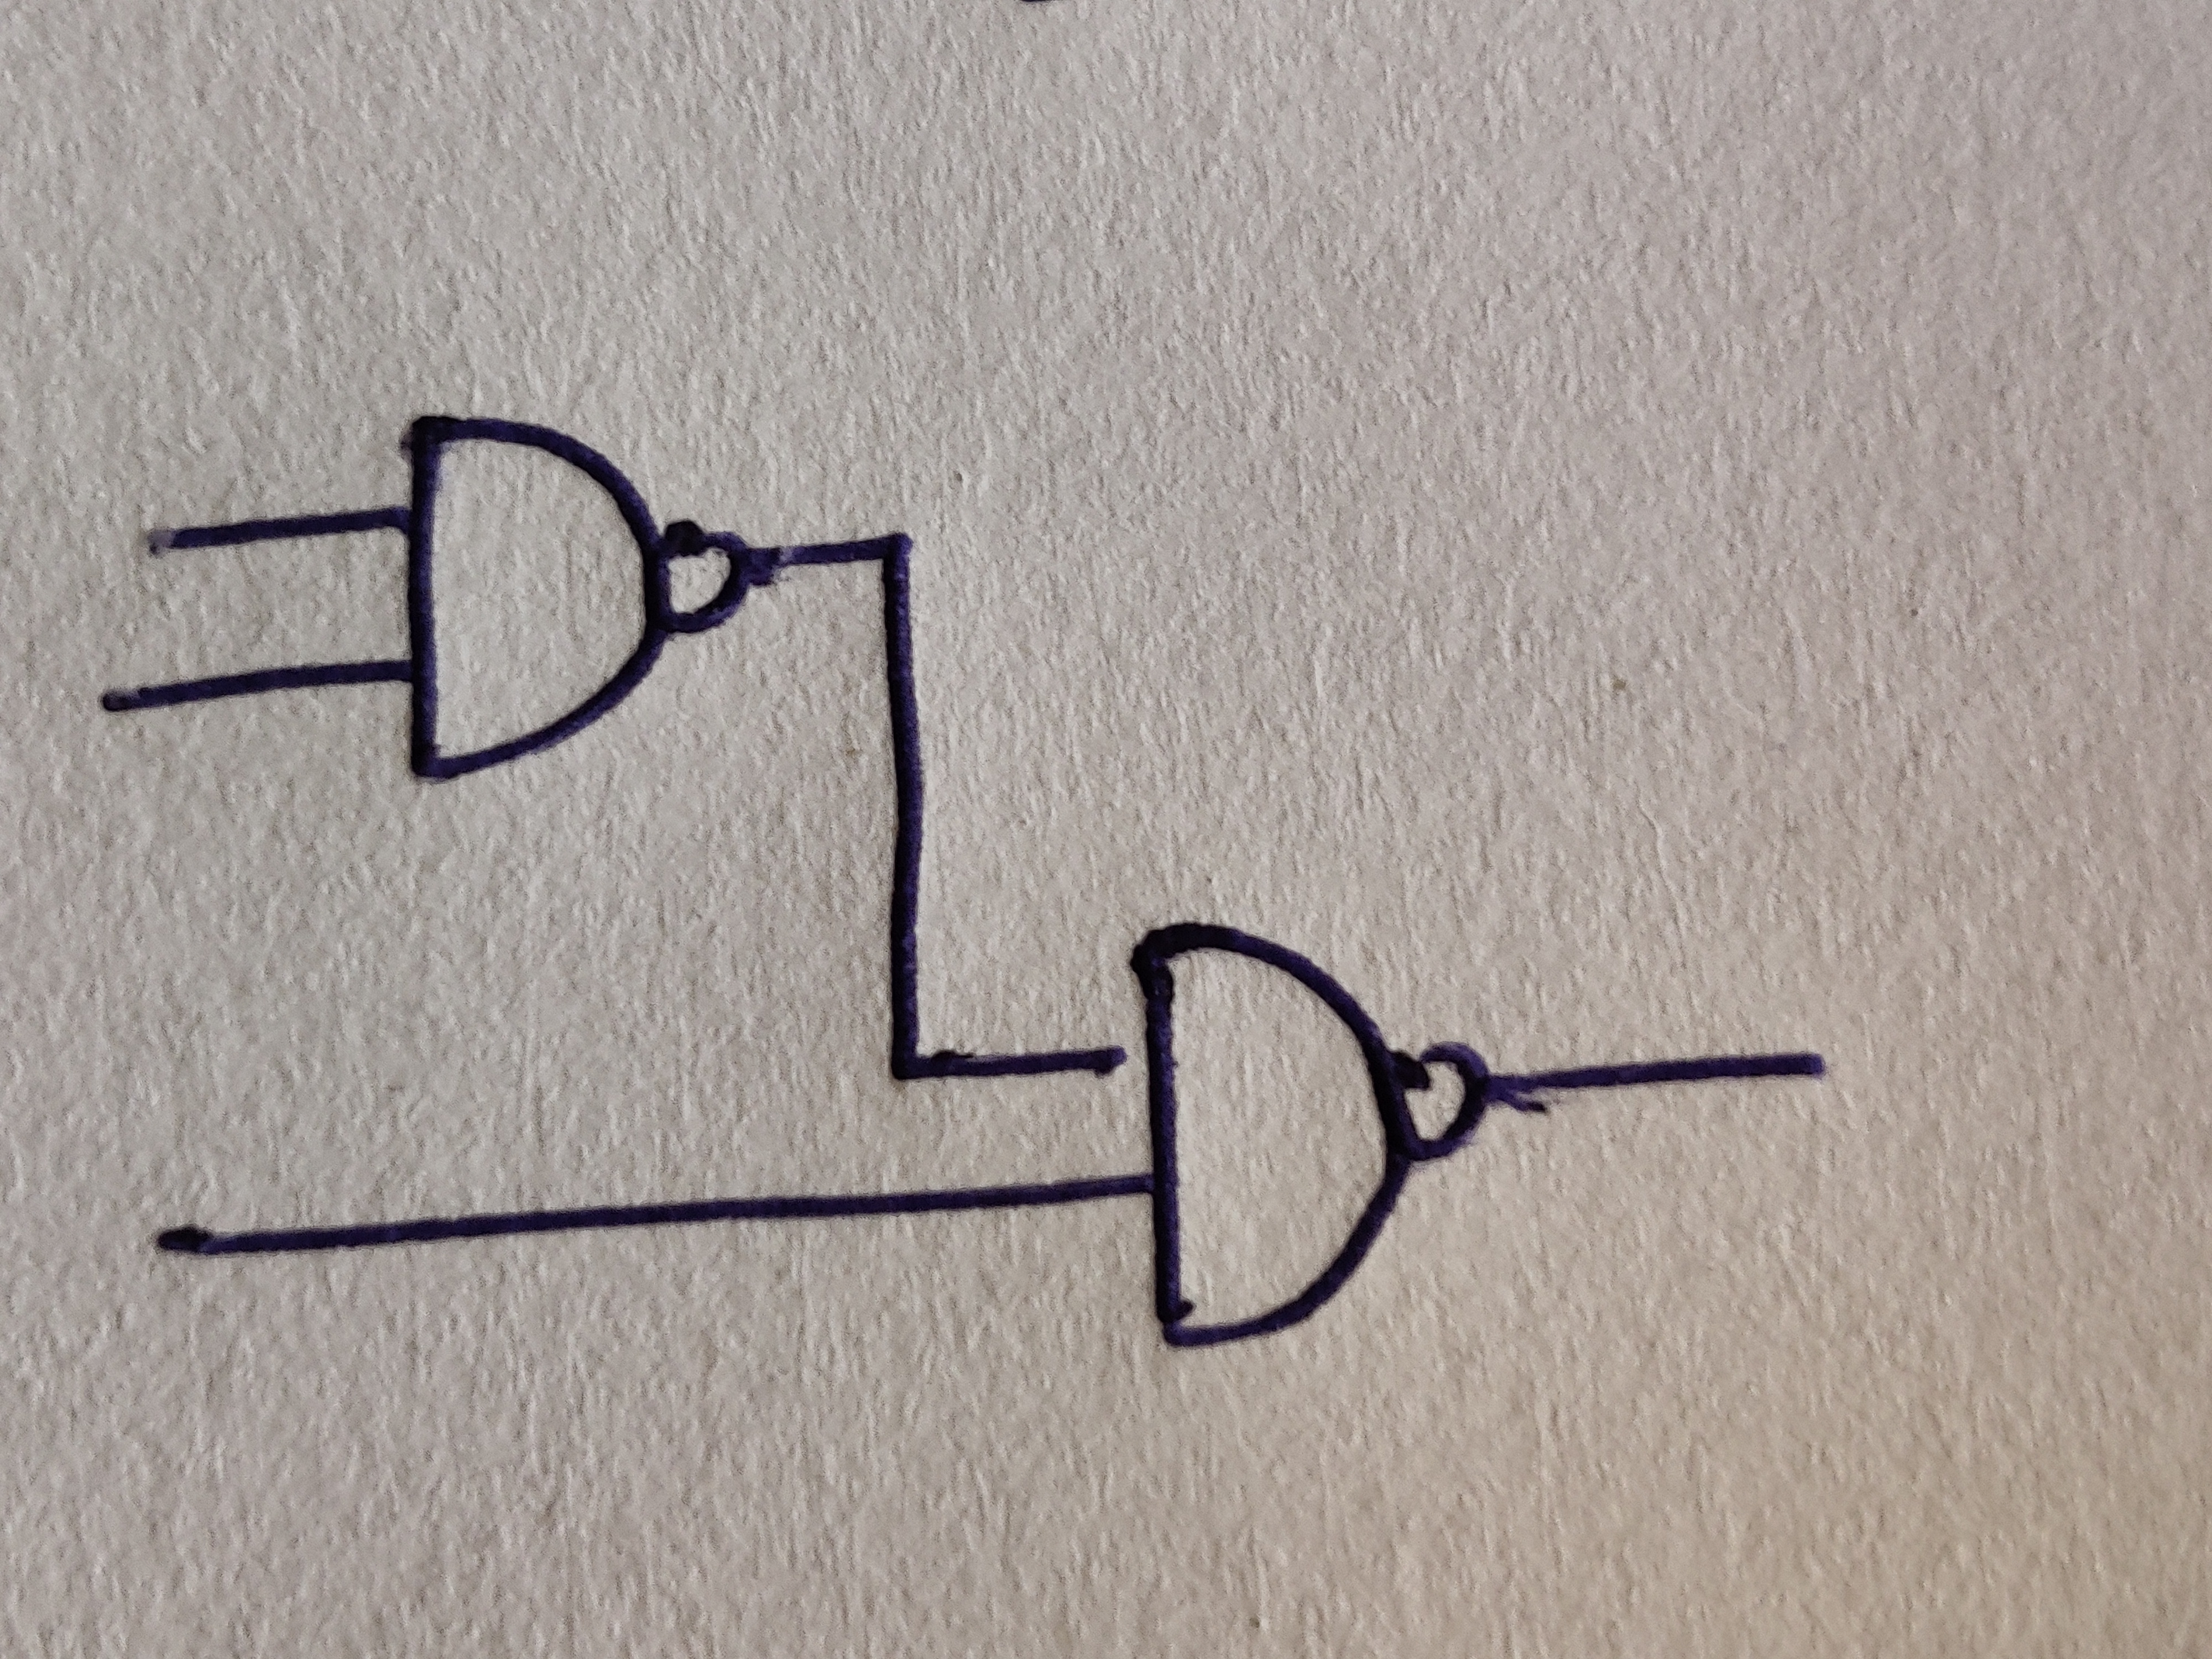and: (1132, 924, 1414, 1345), (408, 413, 671, 779)
not: (1392, 1040, 1487, 1161), (660, 519, 749, 634)
